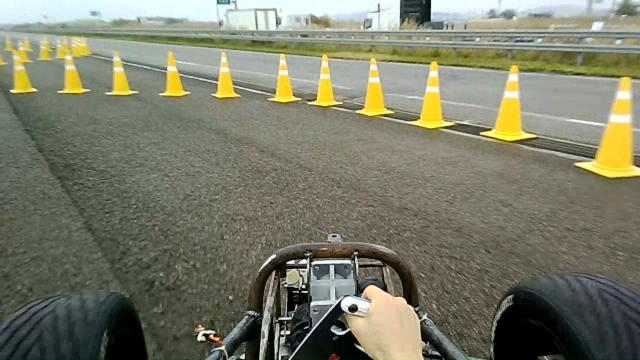yellow cone: (574, 76, 639, 178), (479, 64, 538, 142), (406, 60, 456, 129), (354, 56, 395, 116), (307, 53, 343, 107), (266, 52, 302, 103), (104, 50, 139, 96), (158, 49, 191, 97), (57, 50, 91, 94), (211, 50, 241, 98), (9, 52, 38, 94)
